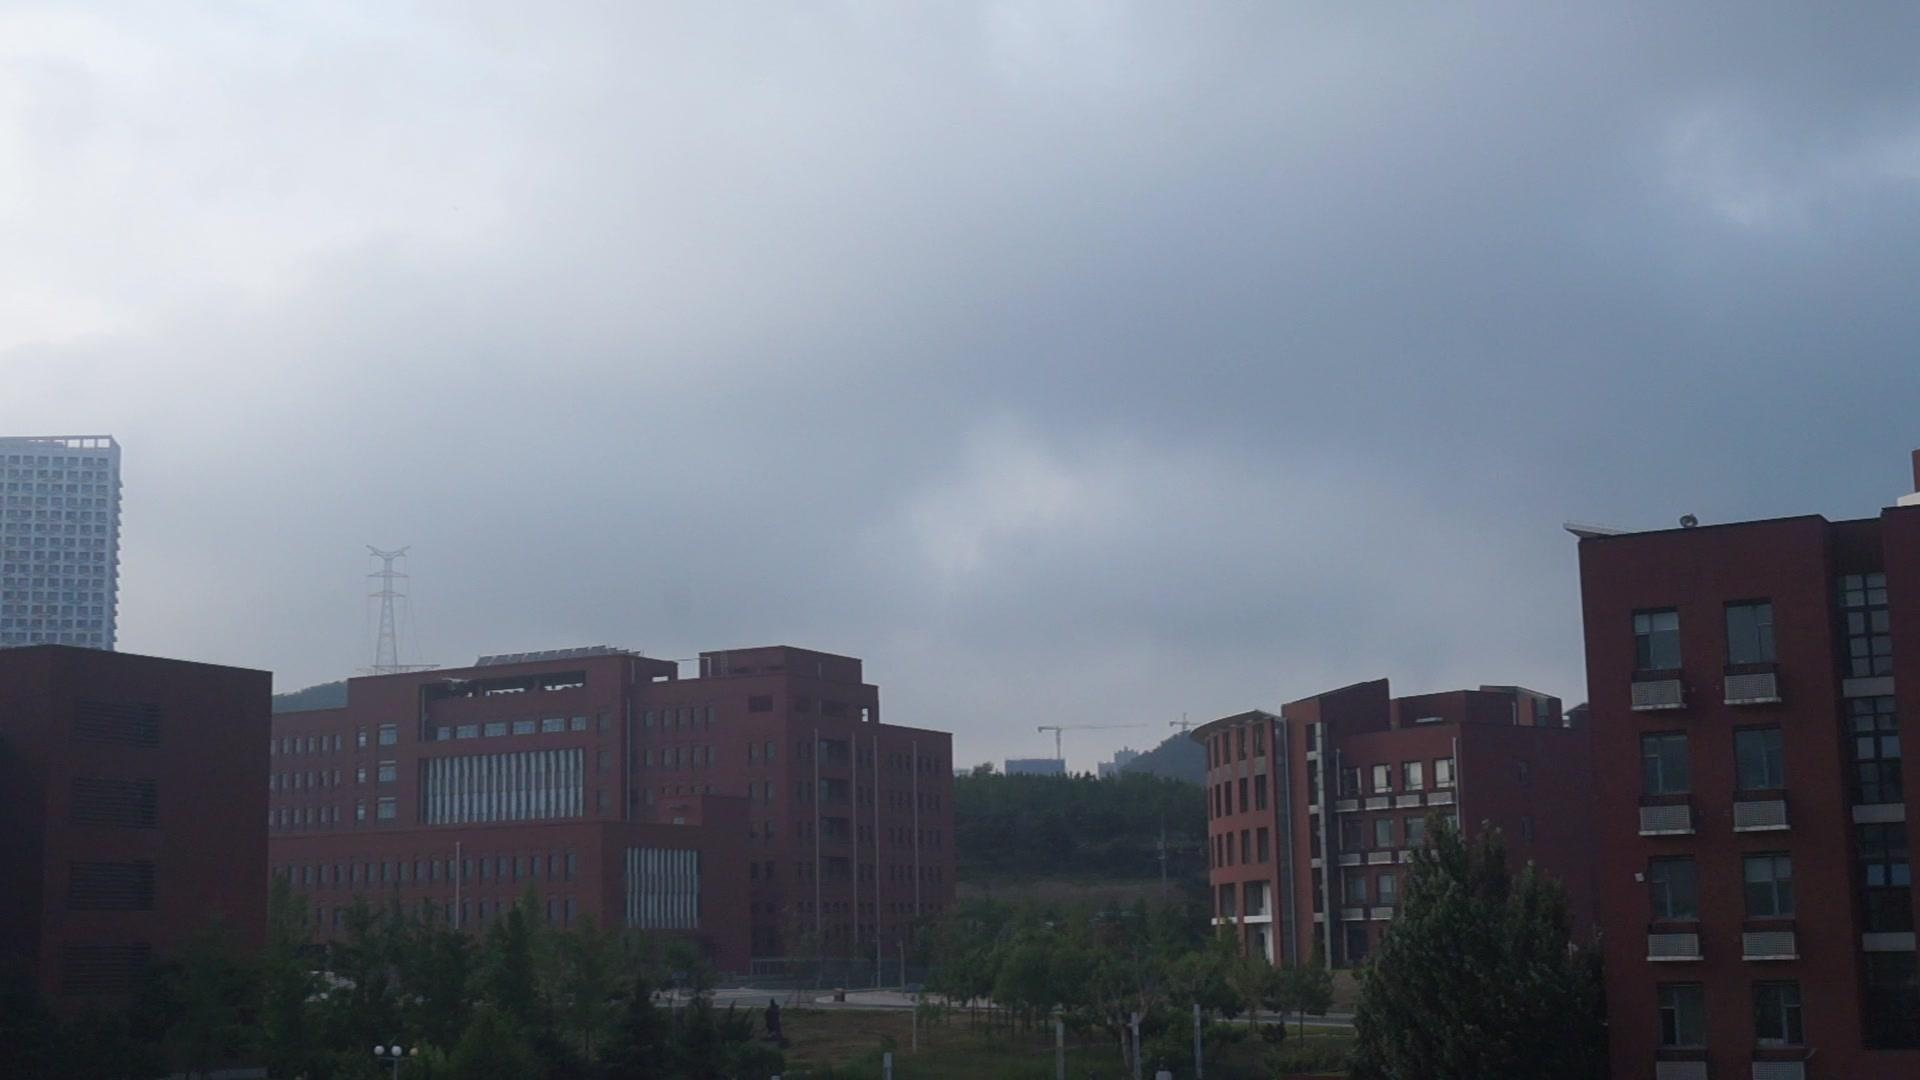UAV: (442, 676, 473, 691)
